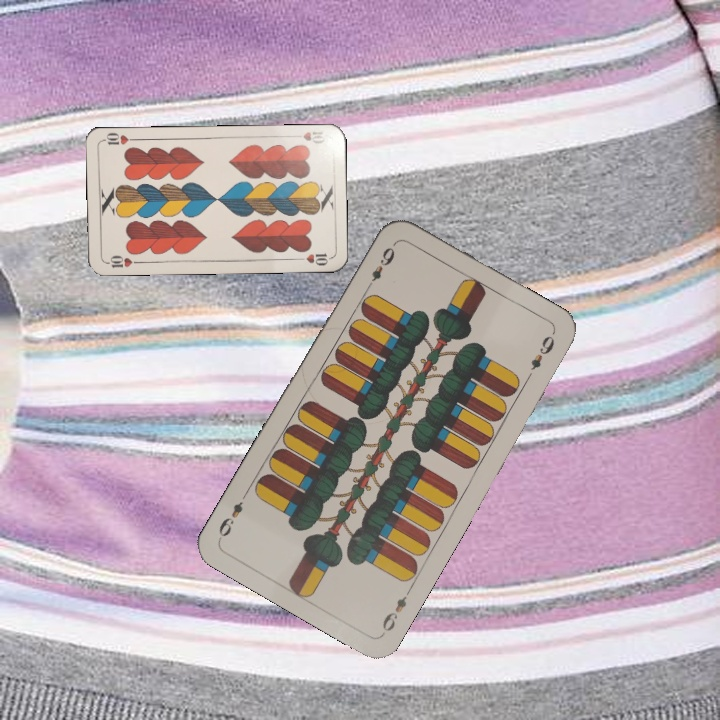E9: (378, 583, 415, 635), (362, 243, 398, 292)
H10: (102, 251, 143, 270), (289, 127, 328, 146)
